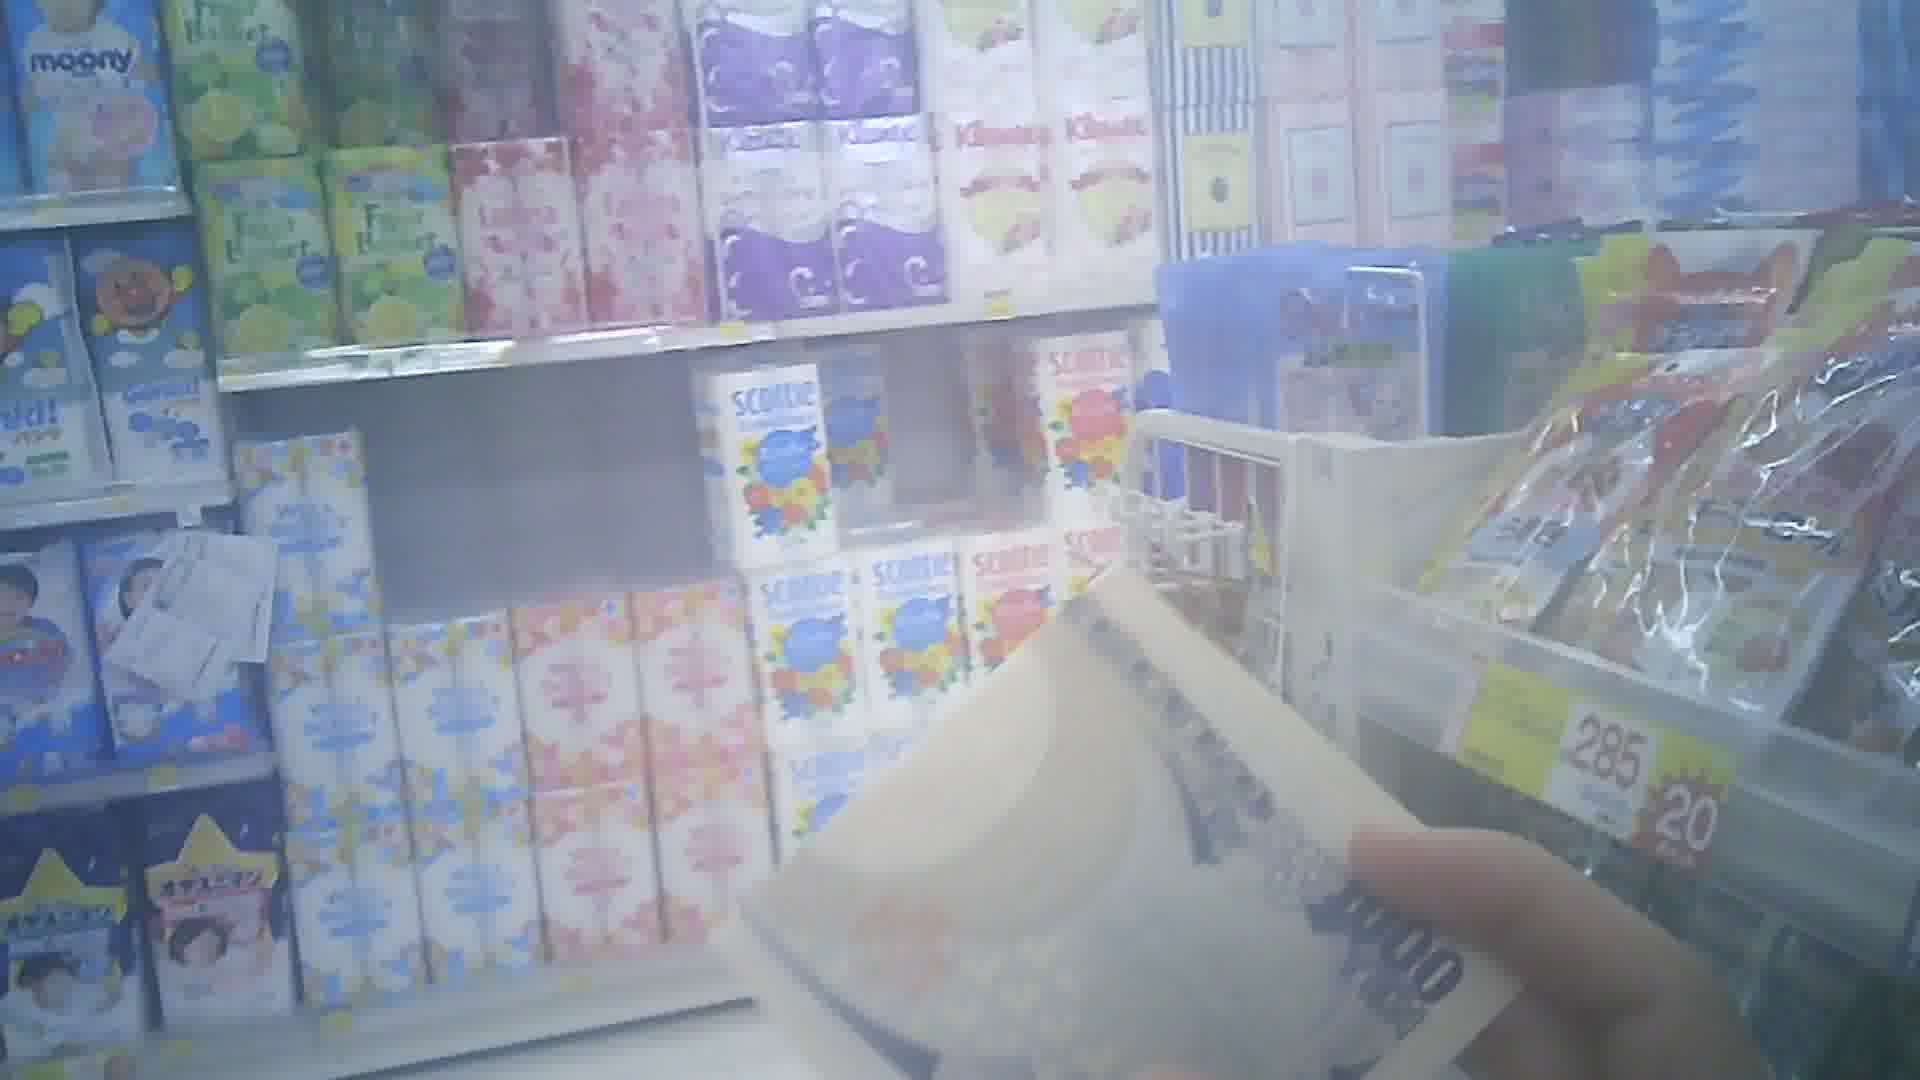1,000 Yen: (769, 600, 1493, 1079)
